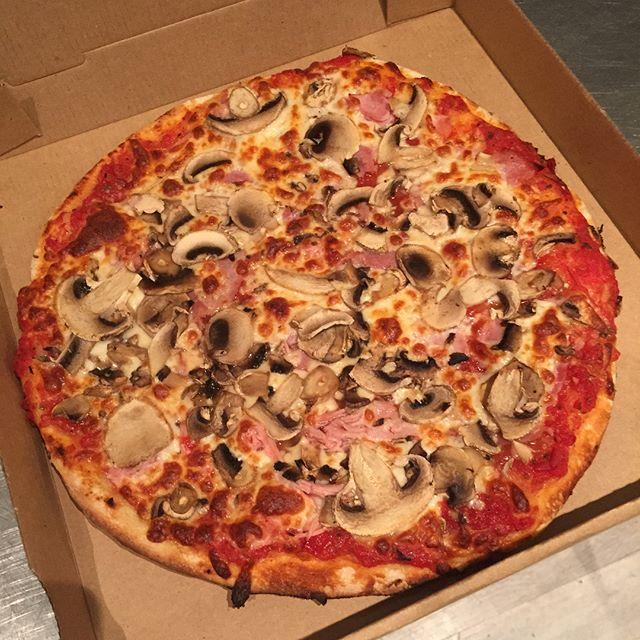champignon: (334, 440, 434, 541), (52, 267, 142, 341), (486, 361, 556, 440), (103, 400, 176, 469), (244, 375, 309, 441), (208, 85, 287, 136), (298, 113, 365, 167), (393, 241, 458, 295), (202, 307, 258, 366), (373, 124, 441, 171), (470, 223, 524, 281), (383, 83, 434, 139), (432, 186, 492, 230), (175, 230, 238, 268), (226, 185, 276, 231), (178, 147, 237, 185)
